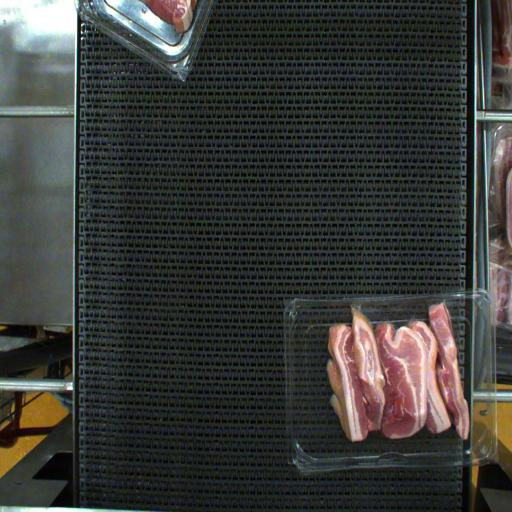packaging-error: (344, 295, 366, 333)
twisted-meat: (432, 305, 462, 436)
